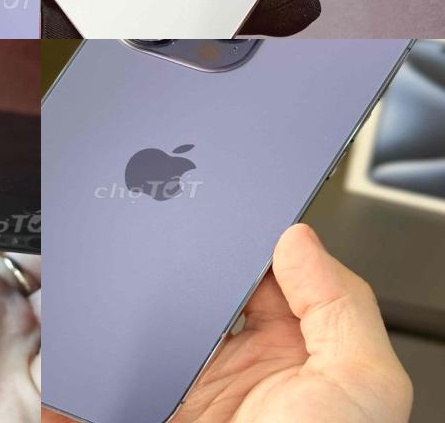scratch: (0, 164, 28, 204)
